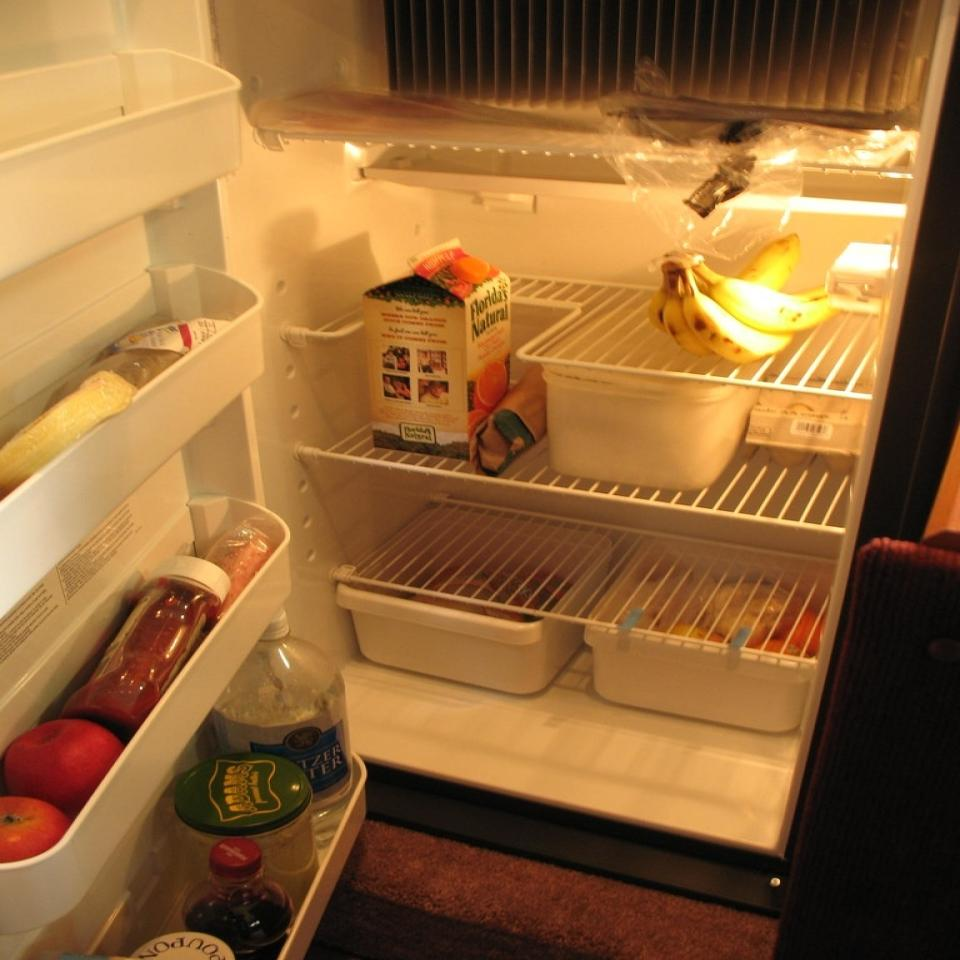Plátano: (643, 229, 846, 370)
Tomate: (0, 720, 132, 793), (0, 795, 80, 871)
